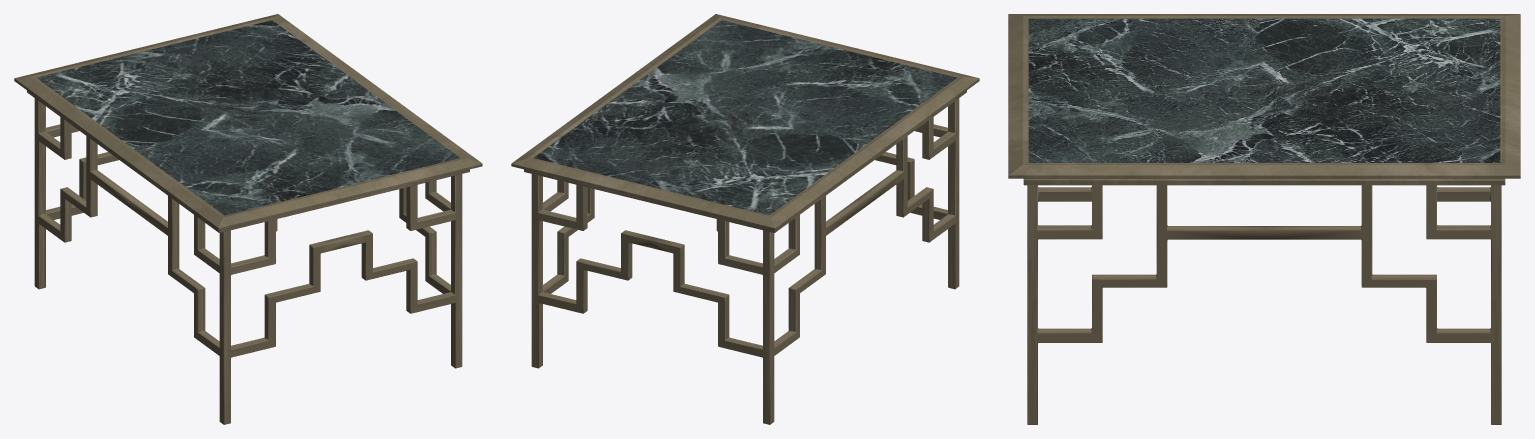
Rendered from coffee_table_art_deco.glb.
3 renders of one model, left to right at view 1: azimuth 30°, elevation 25°; view 2: azimuth 150°, elevation 25°; view 3: azimuth 270°, elevation 25°, orthographic. The views are drawn at different scales.
Parts seen in each view (by area): view 1: Table_1, Legs_0; view 2: Table_1, Legs_0; view 3: Table_1, Legs_0.
Part boxes in pixels (x1=…): Table_1: x1=14, y1=14, x2=482, y2=232; Legs_0: x1=34, y1=98, x2=462, y2=424; Table_1: x1=511, y1=14, x2=979, y2=232; Legs_0: x1=531, y1=98, x2=959, y2=424; Table_1: x1=1008, y1=14, x2=1520, y2=185; Legs_0: x1=1027, y1=185, x2=1501, y2=424.
Size of the model in its own units: 0.7081 by 0.536 by 0.95.
2 materials, 2 textured.
